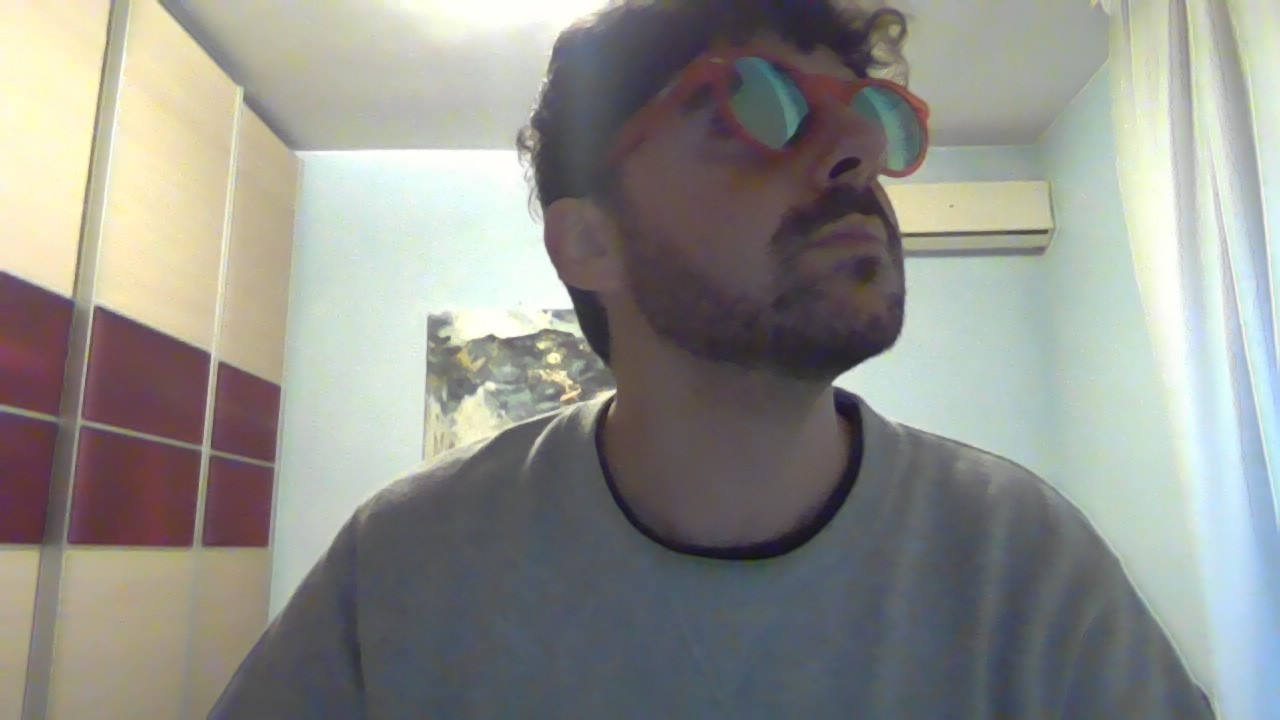Glasses: (586, 42, 953, 195)
